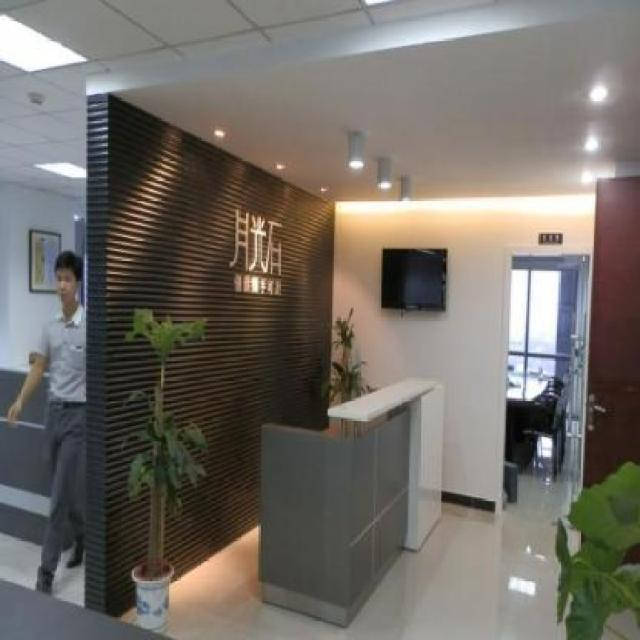frontdesk: (249, 361, 453, 640)
